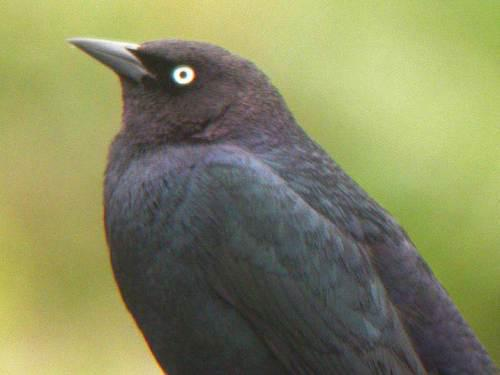009.Brewer_Blackbird: (65, 33, 495, 374)
